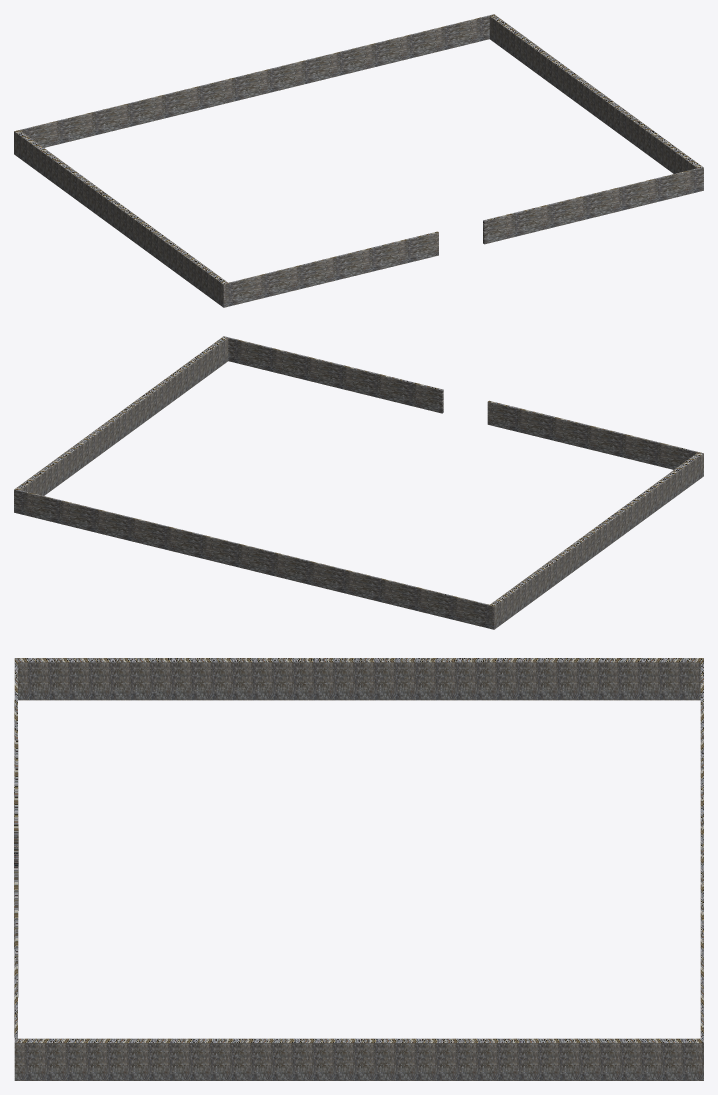
The model's file is murallatemplos.fbx.
The picture shows the model from 3 angles, top to bottom: view 1: azimuth 30°, elevation 25°; view 2: azimuth 150°, elevation 25°; view 3: azimuth 270°, elevation 25°; orthographic projection. The views are drawn at different scales.
Parts seen in each view (by area): view 1: Muro_Rod; view 2: Muro_Rod; view 3: Muro_Rod.
Boxes of the visible parts, x1=… form: Muro_Rod: x1=14, y1=14, x2=703, y2=307; Muro_Rod: x1=14, y1=336, x2=703, y2=629; Muro_Rod: x1=14, y1=658, x2=703, y2=1080.
Size of the model in its own units: 1791 by 82.03 by 1356.
Materials: 1 (1 with a texture image).
